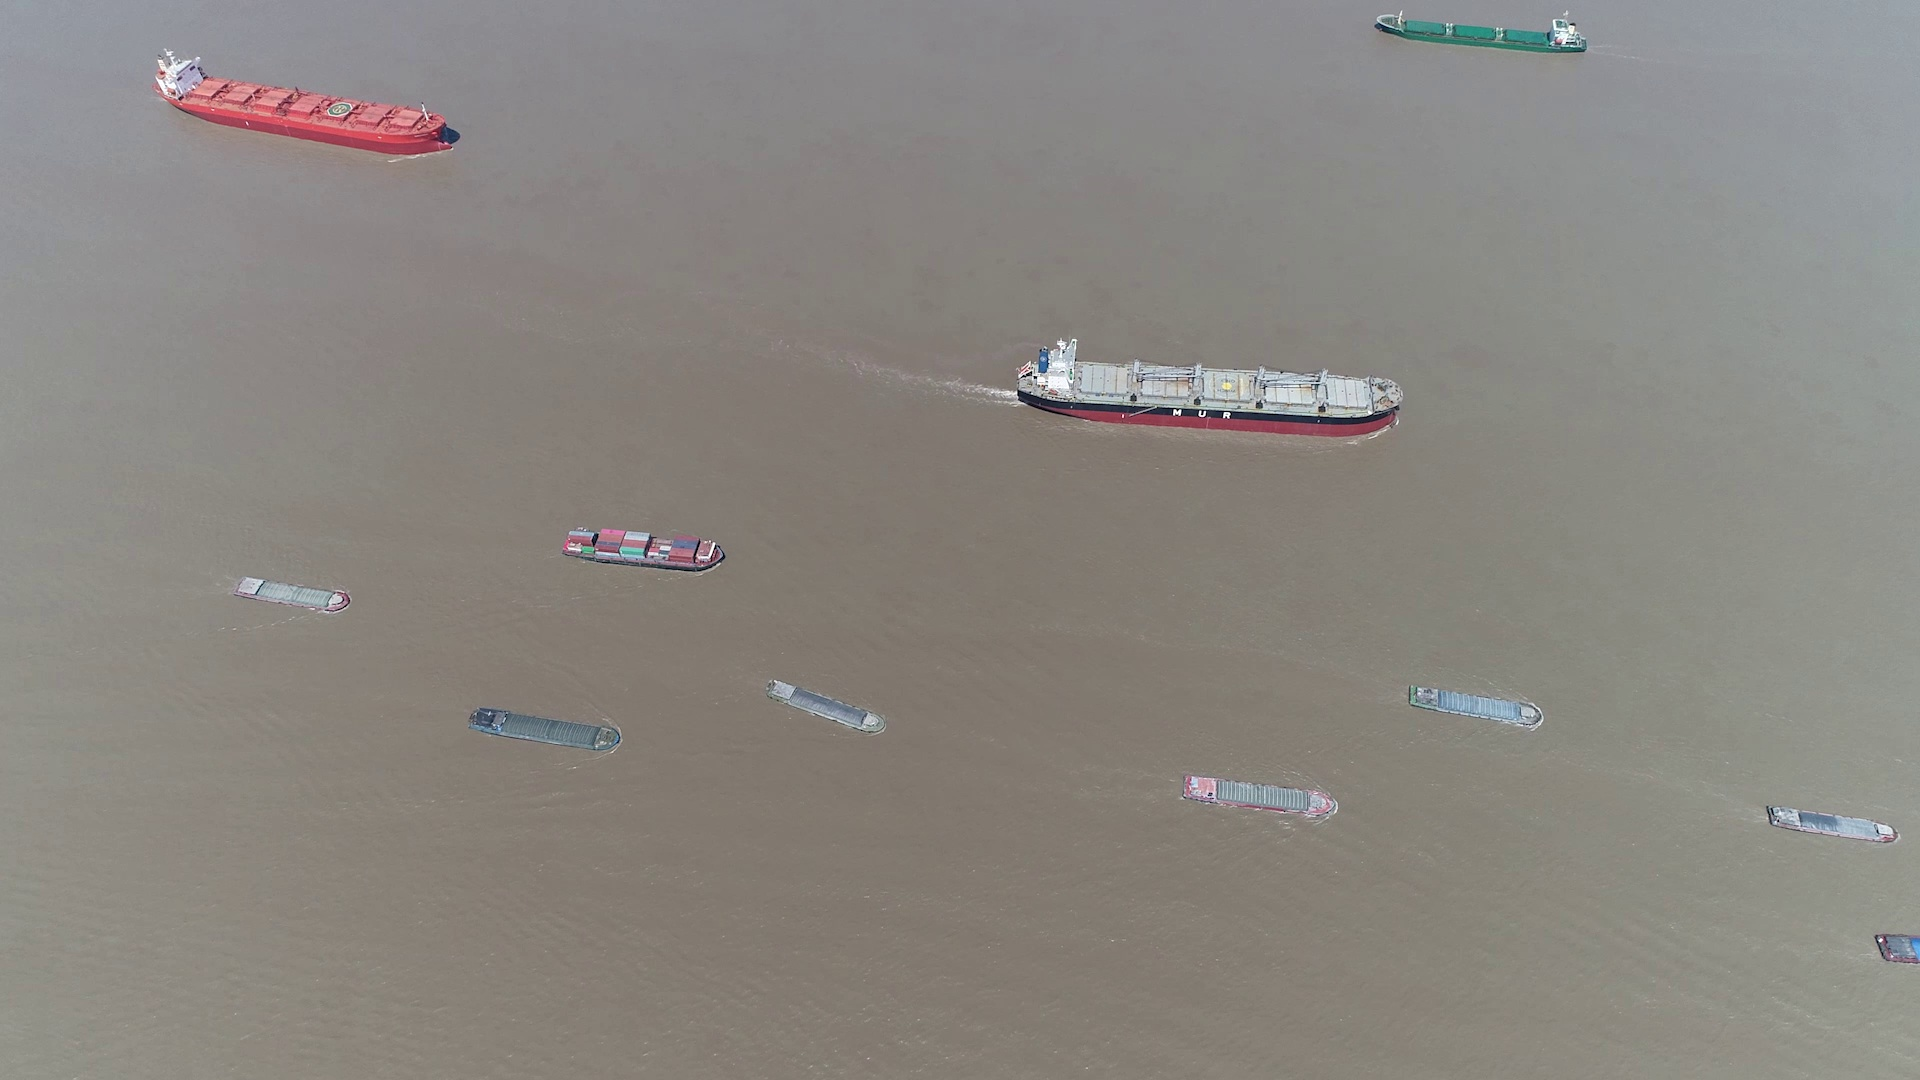ship: (1015, 340, 1404, 438), (156, 47, 455, 154), (1371, 11, 1586, 54), (560, 526, 727, 574), (468, 708, 622, 753), (767, 680, 887, 737), (1184, 775, 1337, 818), (1404, 684, 1543, 729), (1762, 804, 1902, 845), (233, 576, 352, 611), (1876, 932, 1920, 967)
